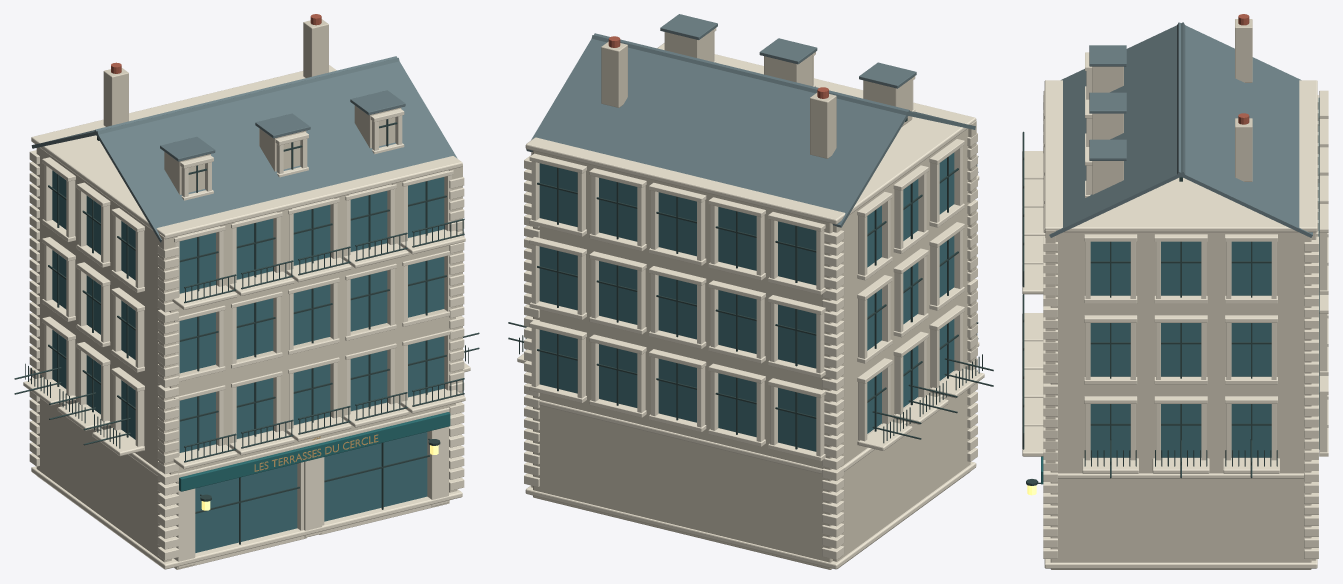
The model's file is Residence.glb.
3 renders of one model, left to right at view 1: azimuth 30°, elevation 25°; view 2: azimuth 150°, elevation 25°; view 3: azimuth 270°, elevation 25°, orthographic. The views are drawn at different scales.
Parts seen in each view (by area): view 1: Residence_Carved ivory, Residence_Window blue, Residence_Paris limestone, Residence_Zinc slate, Residence_Forged midnight, Residence_3B petrol; view 2: Residence_Carved ivory, Residence_Paris limestone, Residence_Zinc slate, Residence_Window blue, Residence_Forged midnight; view 3: Residence_Paris limestone, Residence_Carved ivory, Residence_Zinc slate, Residence_Window blue, Residence_Forged midnight.
Part boxes in pixels (x1=…): Residence_Carved ivory: x1=23, y1=65, x2=470, y2=569; Residence_Window blue: x1=52, y1=170, x2=444, y2=552; Residence_Paris limestone: x1=36, y1=19, x2=462, y2=568; Residence_Zinc slate: x1=31, y1=56, x2=457, y2=242; Residence_Forged midnight: x1=14, y1=119, x2=479, y2=544; Residence_3B petrol: x1=179, y1=412, x2=450, y2=491; Residence_Carved ivory: x1=517, y1=28, x2=984, y2=569; Residence_Paris limestone: x1=531, y1=30, x2=976, y2=569; Residence_Zinc slate: x1=526, y1=14, x2=975, y2=227; Residence_Window blue: x1=539, y1=152, x2=954, y2=451; Residence_Forged midnight: x1=508, y1=117, x2=993, y2=449; Residence_Paris limestone: x1=1045, y1=19, x2=1316, y2=569; Residence_Carved ivory: x1=1022, y1=52, x2=1328, y2=568; Residence_Zinc slate: x1=1049, y1=22, x2=1312, y2=237; Residence_Window blue: x1=1090, y1=98, x2=1319, y2=457; Residence_Forged midnight: x1=1022, y1=131, x2=1277, y2=485.
Size of the model in its own units: 24.91 by 25.62 by 16.45.
